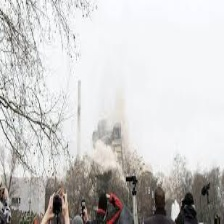smoke: (76, 87, 138, 172)
